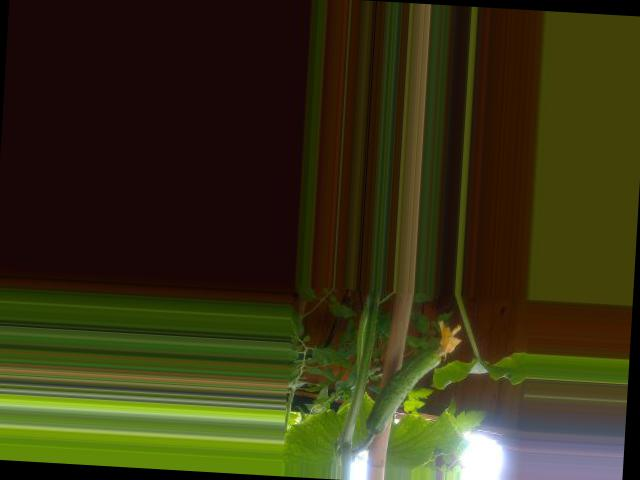cucumber: (366, 315, 463, 439)
